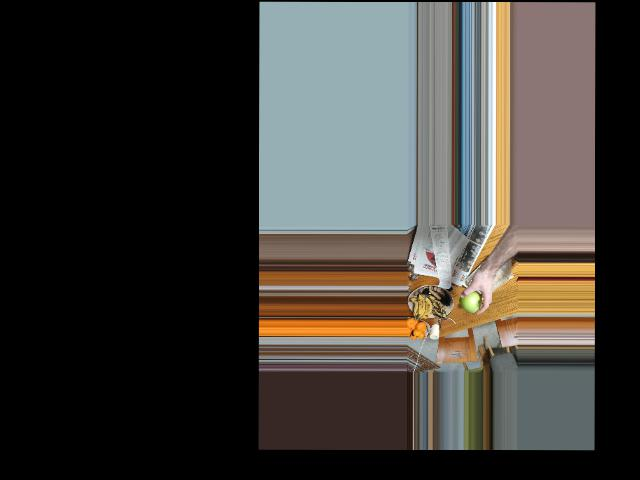apple: (460, 290, 481, 314)
